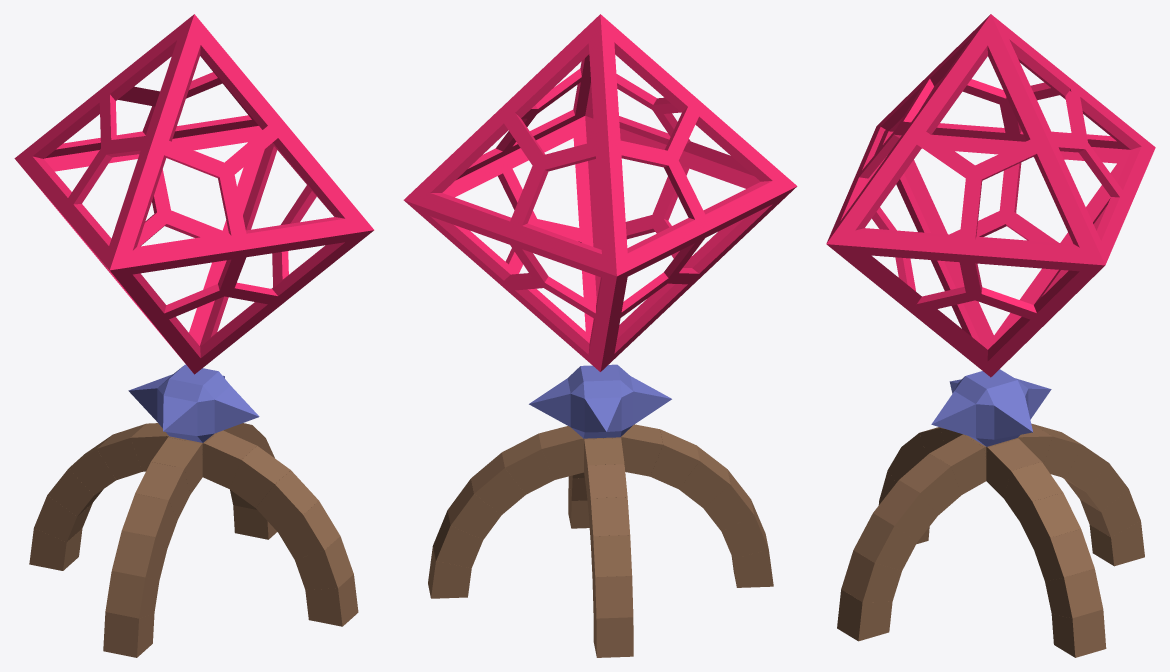
File: Octaedro_Jamnitzer.glb
3 views of the same model, side by side, from view 1: azimuth 30°, elevation 25°; view 2: azimuth 150°, elevation 25°; view 3: azimuth 270°, elevation 25° (orthographic).
Visible parts, largest first — view 1: Solid.011, Cube.001, Cube, Cube.008; view 2: Solid.011, Cube, Cube.001, Cube.008; view 3: Solid.011, Cube.001, Cube, Cube.008.
Boxes of the visible parts, x1,y1,x2,y2 form: Solid.011: [14, 14, 374, 374]; Cube.001: [29, 423, 358, 626]; Cube: [103, 423, 277, 657]; Cube.008: [128, 364, 259, 442]; Solid.011: [403, 14, 797, 371]; Cube: [428, 424, 773, 598]; Cube.001: [568, 437, 633, 657]; Cube.008: [529, 364, 671, 438]; Solid.011: [826, 14, 1155, 377]; Cube.001: [837, 423, 1144, 641]; Cube: [878, 427, 1106, 657]; Cube.008: [931, 369, 1051, 446].
Size of the model in its own units: 17.53 by 33.98 by 17.53.
